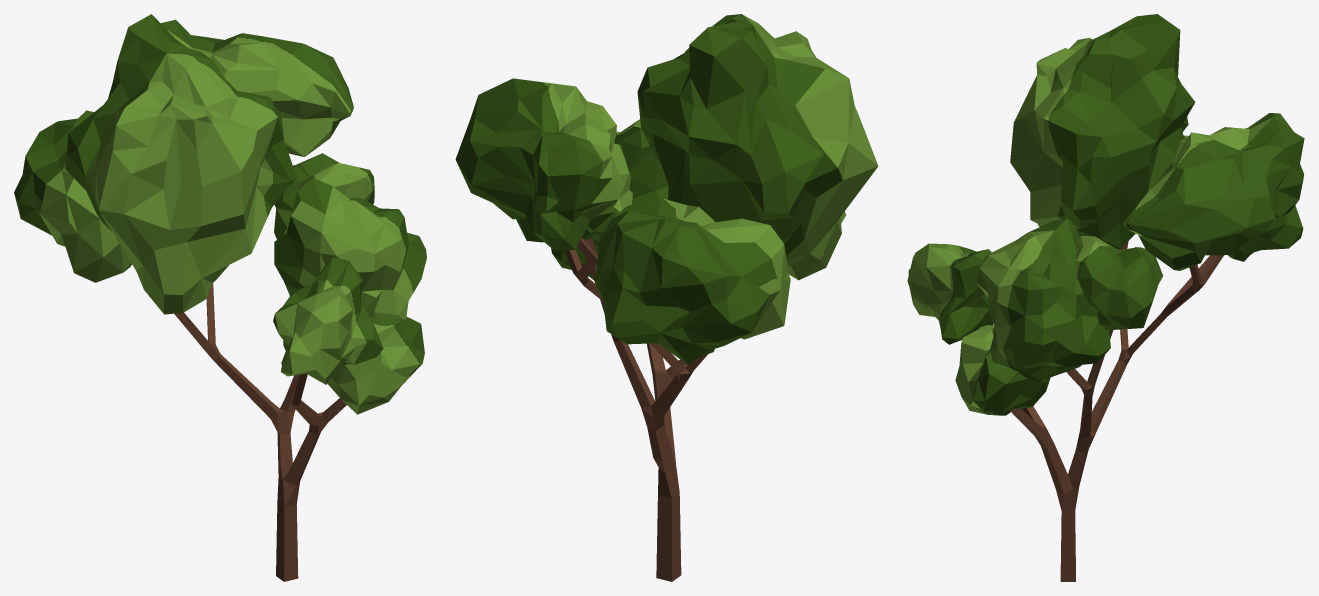
Rendered from Tree_Box.fbx.
The picture shows the model from 3 angles, left to right: view 1: azimuth 30°, elevation 25°; view 2: azimuth 150°, elevation 25°; view 3: azimuth 270°, elevation 25°; orthographic projection. The views are drawn at different scales.
Parts seen in each view (by area): view 1: Crown, Trunk; view 2: Crown, Trunk; view 3: Crown, Trunk.
Part boxes in pixels (x1,y1,x2,y2): Crown: (14, 14, 426, 414); Trunk: (174, 283, 346, 581); Crown: (455, 14, 878, 364); Trunk: (564, 237, 707, 581); Crown: (907, 14, 1304, 415); Trunk: (1010, 241, 1223, 581).
Size of the model in its own units: 766 by 1280 by 890.
2 materials, 2 textured.
